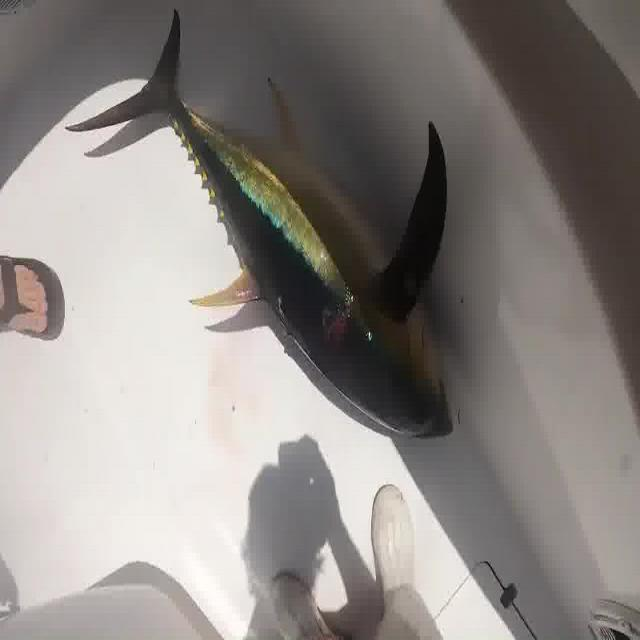Yellowfin Tuna: (63, 7, 455, 442)
